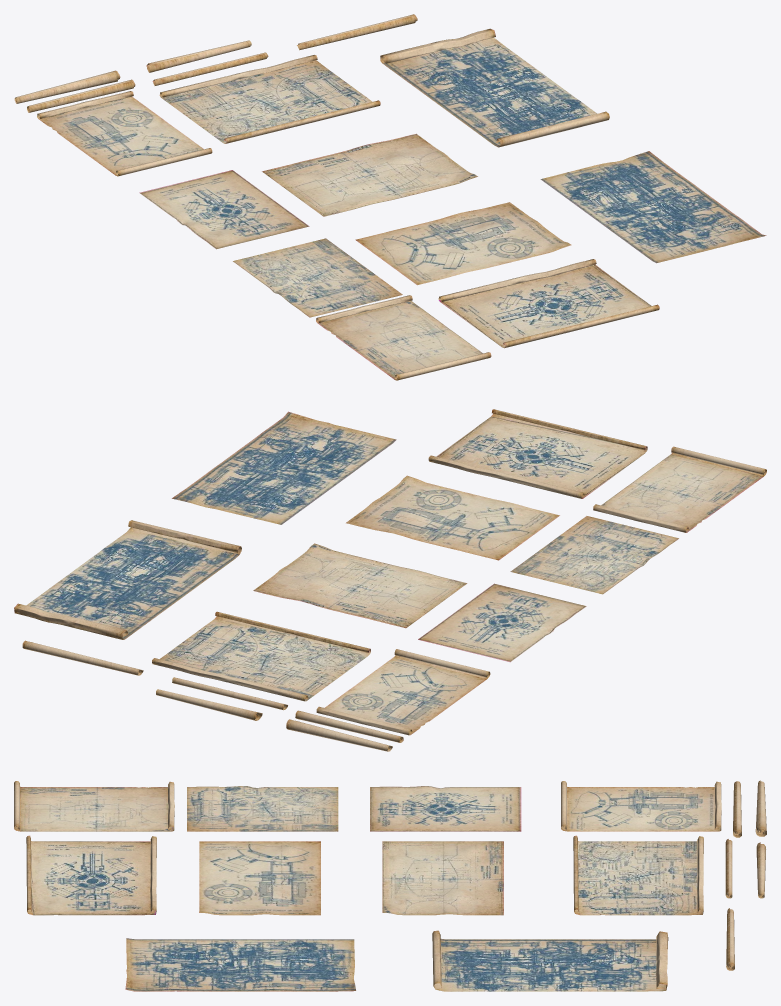
The model's file is item-blueprints.glb.
3 views of the same model, one above another, from view 1: azimuth 30°, elevation 25°; view 2: azimuth 150°, elevation 25°; view 3: azimuth 270°, elevation 25° (orthographic). The views are drawn at different scales.
Parts seen in each view (by area): view 1: Plane.001_1, Plane.014_14, Plane.004_4, Plane.012_12, Plane.010_10, Plane.002_2, Plane.013_13, Plane.005_5, Plane.011_11, Plane.003_3, Plane.006_6, Plane.009_9 (+3 smaller); view 2: Plane.001_1, Plane.014_14, Plane.012_12, Plane.004_4, Plane.002_2, Plane.010_10, Plane.005_5, Plane.013_13, Plane.011_11, Plane.003_3, Plane.009_9, Plane.006_6 (+3 smaller); view 3: Plane.001_1, Plane.014_14, Plane.004_4, Plane.012_12, Plane.010_10, Plane.002_2, Plane.005_5, Plane.013_13, Plane.011_11, Plane.003_3, Plane.009_9, Plane.006_6 (+3 smaller).
Boxes of the visible parts, box(x1,y1,x2,y2) form: Plane.001_1: box(380, 28, 609, 147); Plane.014_14: box(540, 151, 766, 263); Plane.004_4: box(159, 55, 380, 143); Plane.012_12: box(438, 259, 659, 348); Plane.010_10: box(355, 202, 571, 285); Plane.002_2: box(262, 133, 477, 216); Plane.013_13: box(316, 295, 491, 380); Plane.005_5: box(37, 91, 212, 176); Plane.011_11: box(233, 238, 402, 317); Plane.003_3: box(139, 170, 309, 249); Plane.006_6: box(297, 14, 417, 50); Plane.009_9: box(14, 70, 120, 103); Plane.001_1: box(14, 520, 241, 639); Plane.014_14: box(172, 411, 396, 524); Plane.012_12: box(428, 409, 647, 498); Plane.004_4: box(152, 611, 370, 701); Plane.002_2: box(253, 543, 467, 628); Plane.010_10: box(346, 475, 559, 560); Plane.005_5: box(316, 649, 490, 735); Plane.013_13: box(593, 446, 766, 532); Plane.011_11: box(510, 516, 678, 594); Plane.003_3: box(418, 583, 586, 662); Plane.009_9: box(286, 719, 392, 751); Plane.006_6: box(22, 640, 143, 675); Plane.001_1: box(432, 930, 668, 991); Plane.014_14: box(125, 938, 355, 991); Plane.004_4: box(573, 835, 703, 915); Plane.012_12: box(26, 835, 156, 915); Plane.010_10: box(199, 841, 320, 915); Plane.002_2: box(382, 841, 503, 915); Plane.005_5: box(561, 781, 721, 831); Plane.013_13: box(14, 781, 174, 831); Plane.011_11: box(187, 786, 338, 831); Plane.003_3: box(370, 786, 521, 831); Plane.009_9: box(755, 780, 766, 836); Plane.006_6: box(726, 908, 734, 970).
Bounding box in the file's own units: 2.97 × 0.0721 × 4.61.
Materials: 1 (1 with a texture image).
